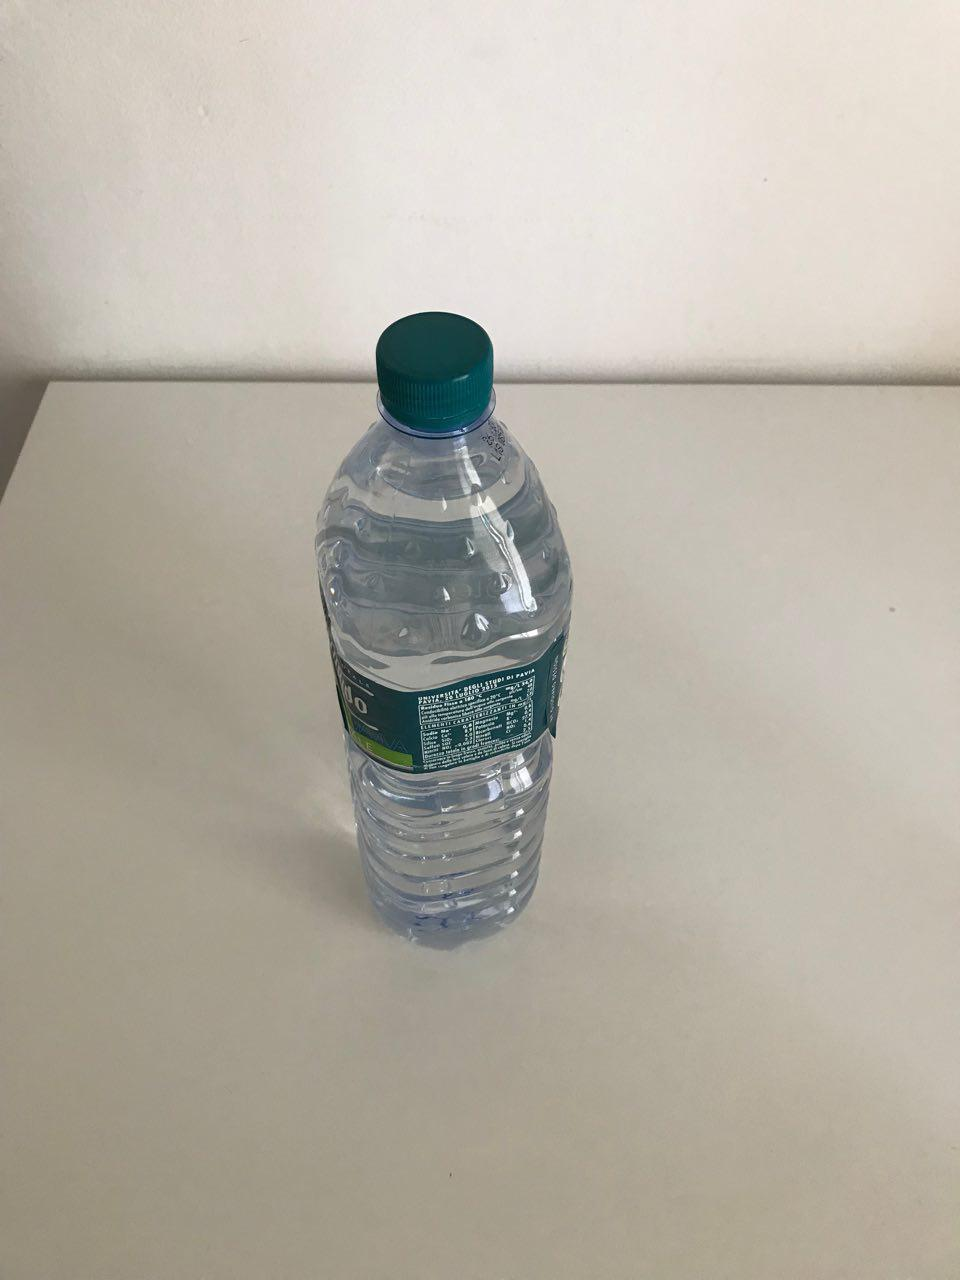san_bernardo: (312, 308, 575, 953)
